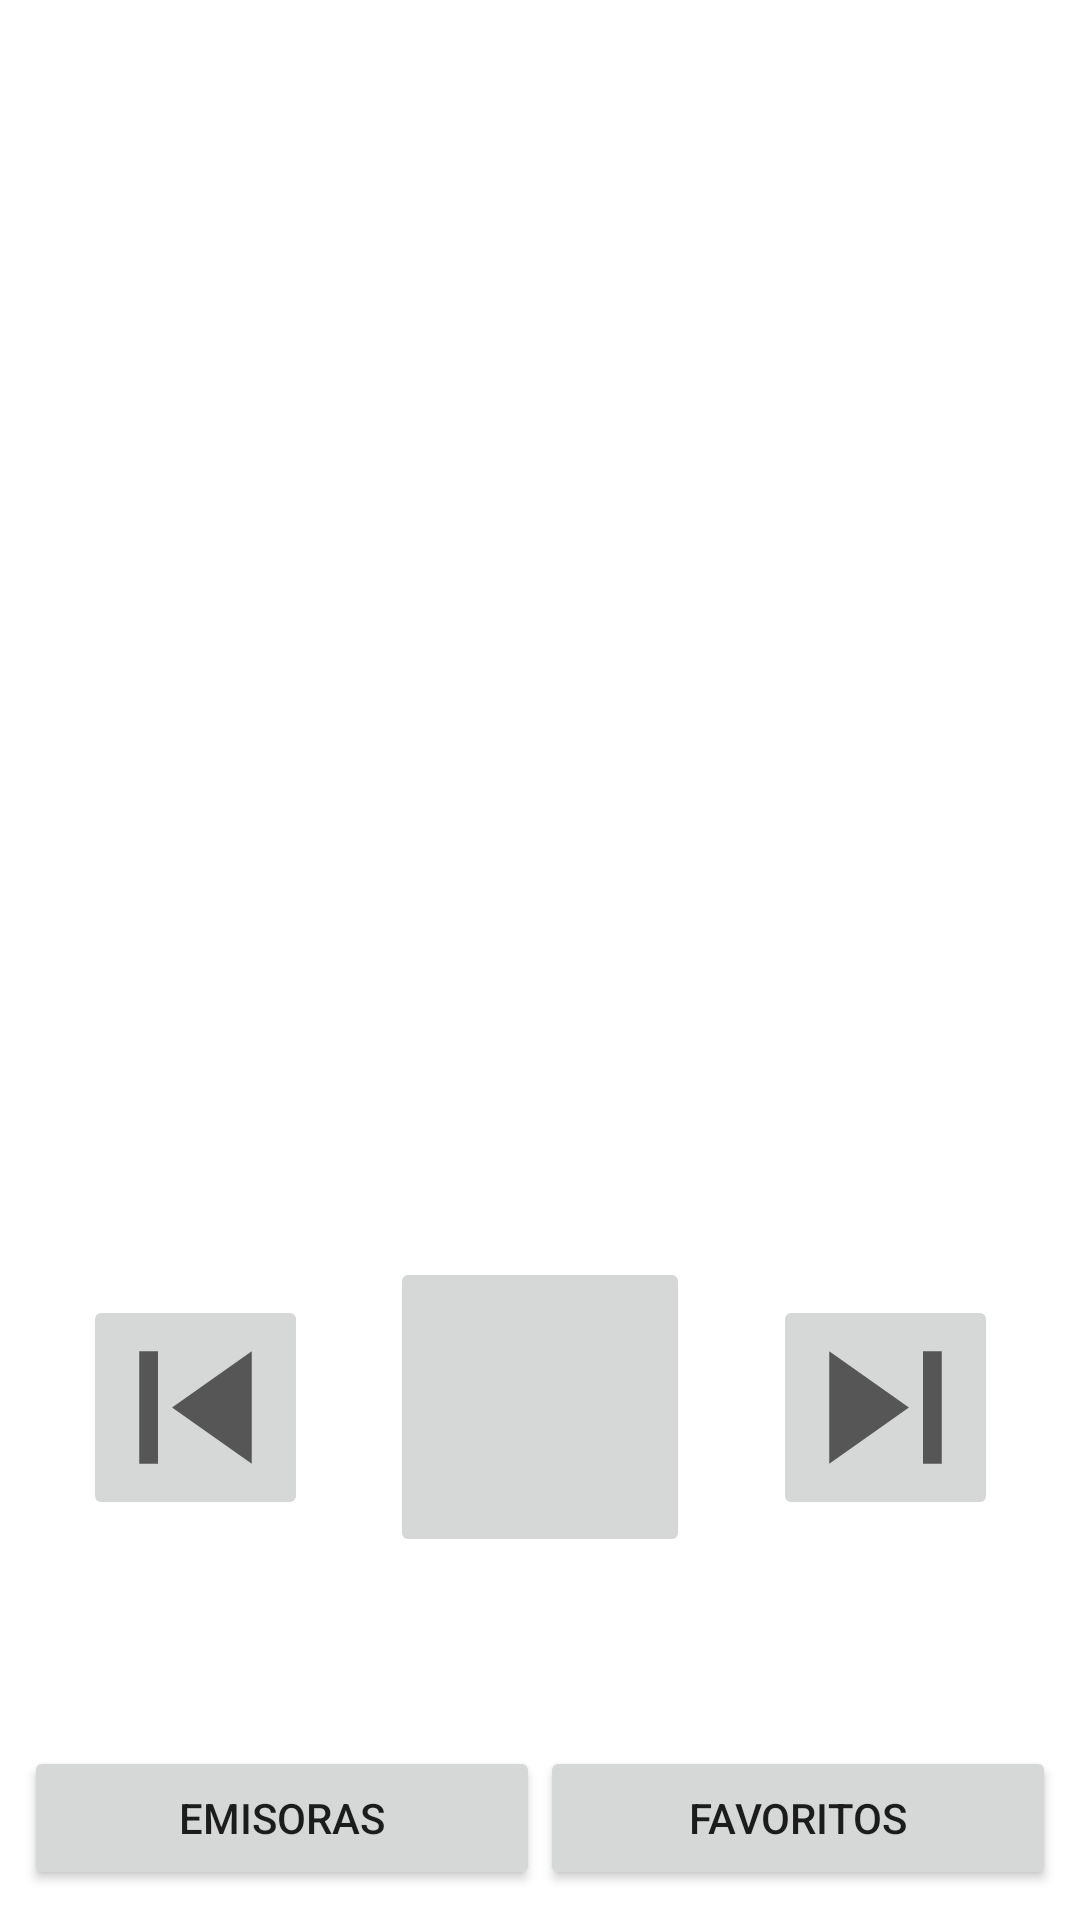

Icon click points for this 1080x1920 phone screenshot, format (x,y):
next: (885,1407)
previous: (195,1407)
